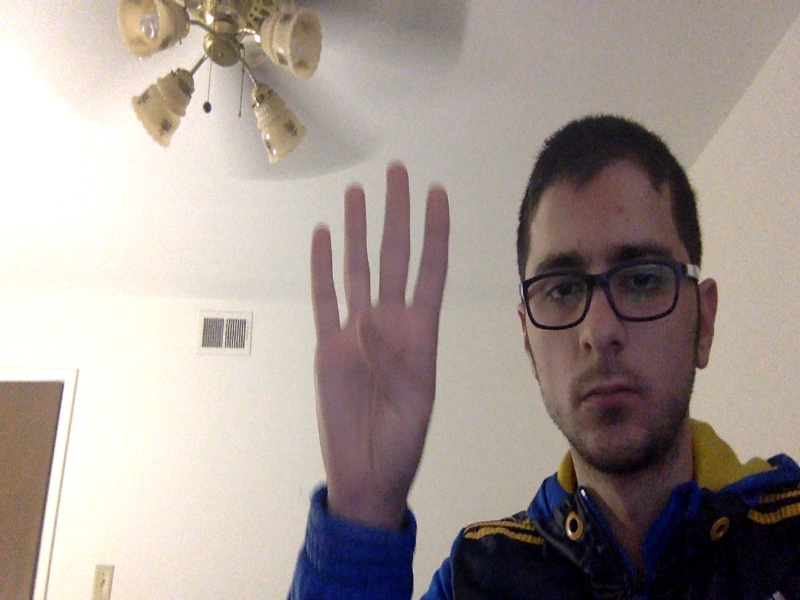4-hand: (312, 162, 449, 510)
